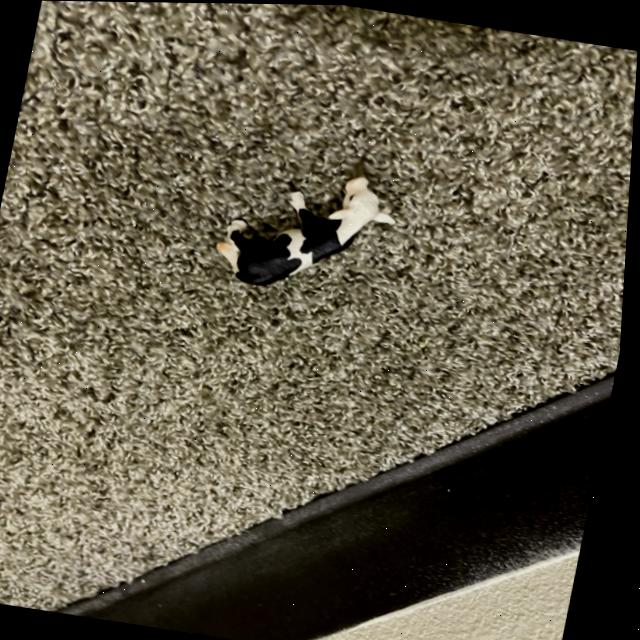cow: (212, 157, 400, 299)
